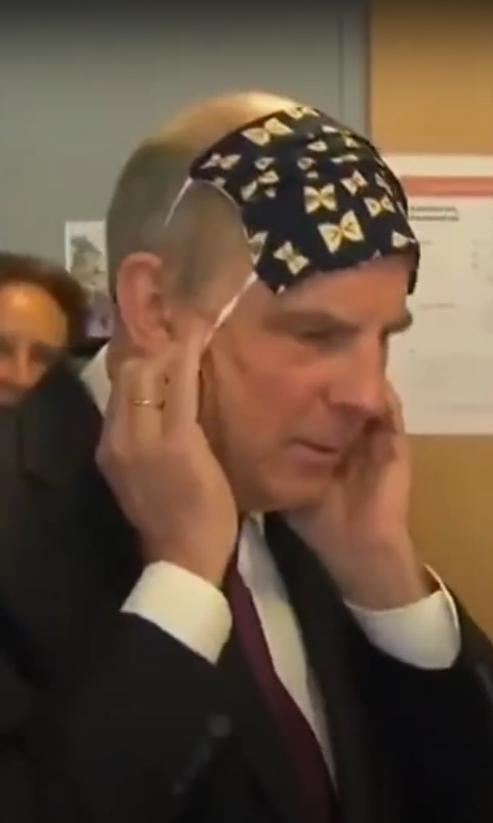with_incorrect_mask: (199, 227, 369, 493)
